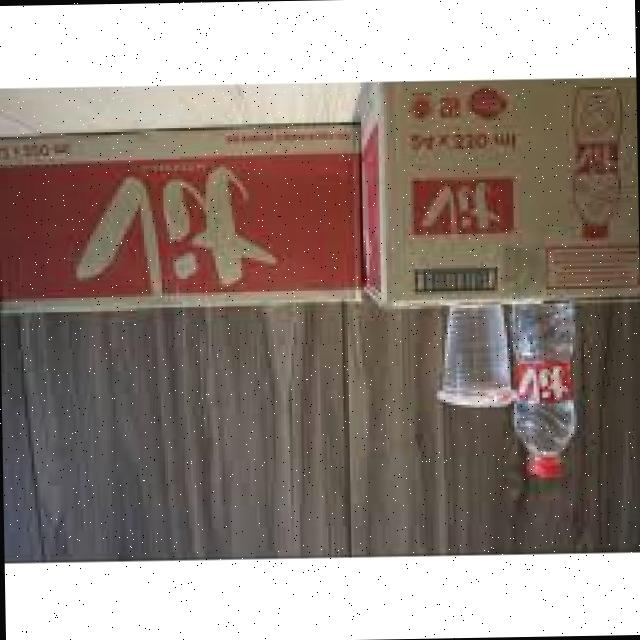bottle: (511, 305, 612, 478)
label: (512, 364, 576, 405)
